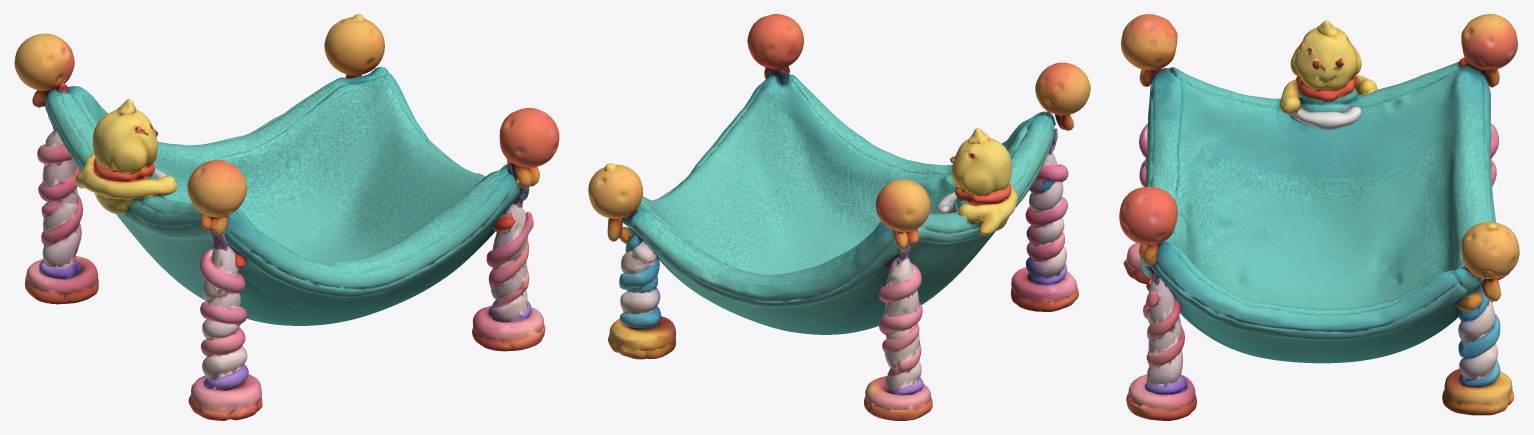
The model's file is env_nest_hammock_01.glb.
3 renders of one model, left to right at view 1: azimuth 30°, elevation 25°; view 2: azimuth 150°, elevation 25°; view 3: azimuth 270°, elevation 25°, orthographic. The views are drawn at different scales.
Visible parts, largest first — view 1: tripo_node_64aef3c4-2378-48b9-9440-c2e49f88314d; view 2: tripo_node_64aef3c4-2378-48b9-9440-c2e49f88314d; view 3: tripo_node_64aef3c4-2378-48b9-9440-c2e49f88314d.
Boxes of the visible parts, x1,y1,x2,y2 form: tripo_node_64aef3c4-2378-48b9-9440-c2e49f88314d: (14, 14, 559, 420); tripo_node_64aef3c4-2378-48b9-9440-c2e49f88314d: (588, 14, 1090, 420); tripo_node_64aef3c4-2378-48b9-9440-c2e49f88314d: (1119, 14, 1519, 420).
Size of the model in its own units: 2.17 by 1.4 by 2.04.
Materials: 1 (1 with a texture image).
